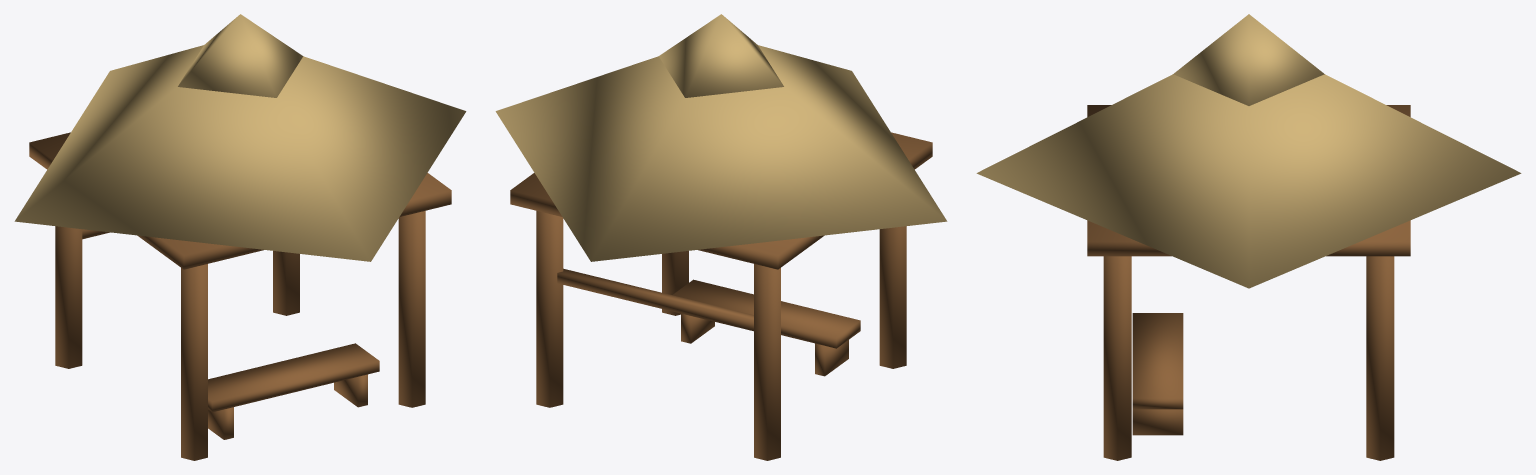
Rendered from xy_beach_tikihut.glb.
3 views of the same model, side by side, from view 1: azimuth 30°, elevation 25°; view 2: azimuth 150°, elevation 25°; view 3: azimuth 270°, elevation 25° (orthographic). The views are drawn at different scales.
Parts seen in each view (by area): view 1: Tikihut; view 2: Tikihut; view 3: Tikihut.
Boxes of the visible parts, box(x1,y1,x2,y2) form: Tikihut: box(14, 14, 466, 460); Tikihut: box(495, 14, 947, 460); Tikihut: box(976, 14, 1521, 460).
Size of the model in its own units: 5.4 by 4.2 by 5.4.
